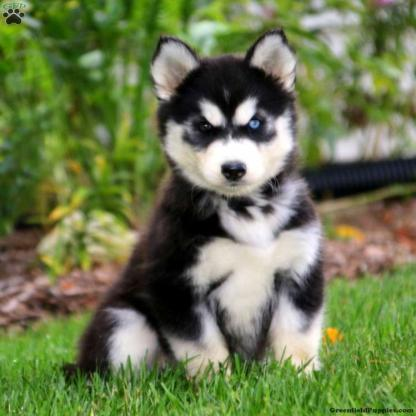husky: (66, 33, 325, 387)
